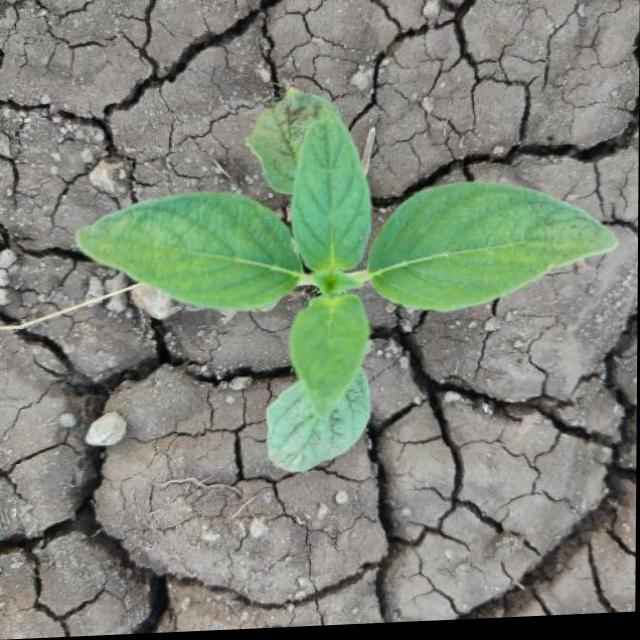crop: (58, 106, 623, 490)
